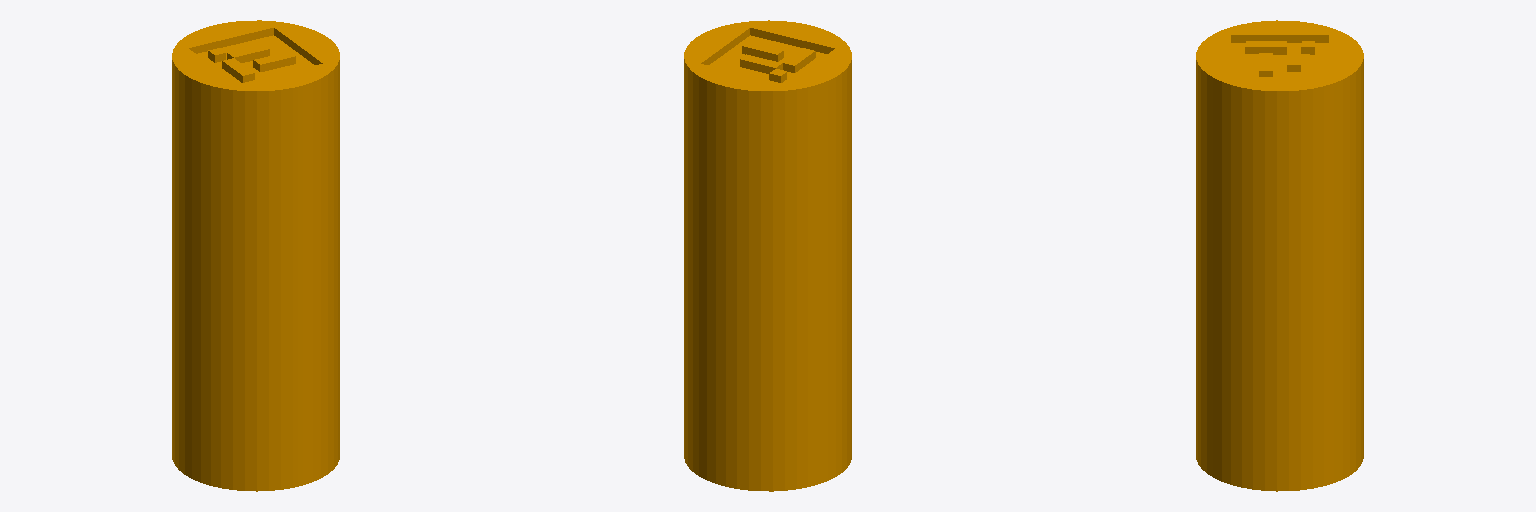
URDF robot description (20_r_circle):
<?xml version="1.0" ?>
<robot name="20_r_circle">

    <link name="20_r_circle">
        <visual>
            <origin rpy="1.5707963267948966 0 0" xyz="0 0 0"/>
            <geometry>
                <mesh filename="Shapes/20_r_circle.STL" scale="1 1 1"/>
            </geometry>
        </visual>
        <collision>
            <geometry>
                <mesh filename="Shapes/20_r_circle.STL" scale="1 1 1"/>
            </geometry>
        </collision>
    </link>

</robot>

--- What the picture shows (computed from the rendered views, not written in the file) ---
Views: 3 orthographic renders of the robot side by side, from view 1: azimuth 30°, elevation 25°; view 2: azimuth 150°, elevation 25°; view 3: azimuth 270°, elevation 25°.
Robot: 20_r_circle — 1 links, 0 joints (none); root link 20_r_circle; default pose: all joints at 0.
Links seen in each view (by area): view 1: 20_r_circle; view 2: 20_r_circle; view 3: 20_r_circle.
Boxes of the visible links, <box> form: 20_r_circle: <box>172,20,339,491</box>; 20_r_circle: <box>684,20,851,491</box>; 20_r_circle: <box>1196,20,1363,491</box>.
Bounding box of the posed robot: 39.97 × 40 × 105 m (x, y, z).
Meshes: 1 distinct files referenced, 1 mesh visuals loaded (1 binary STL).
